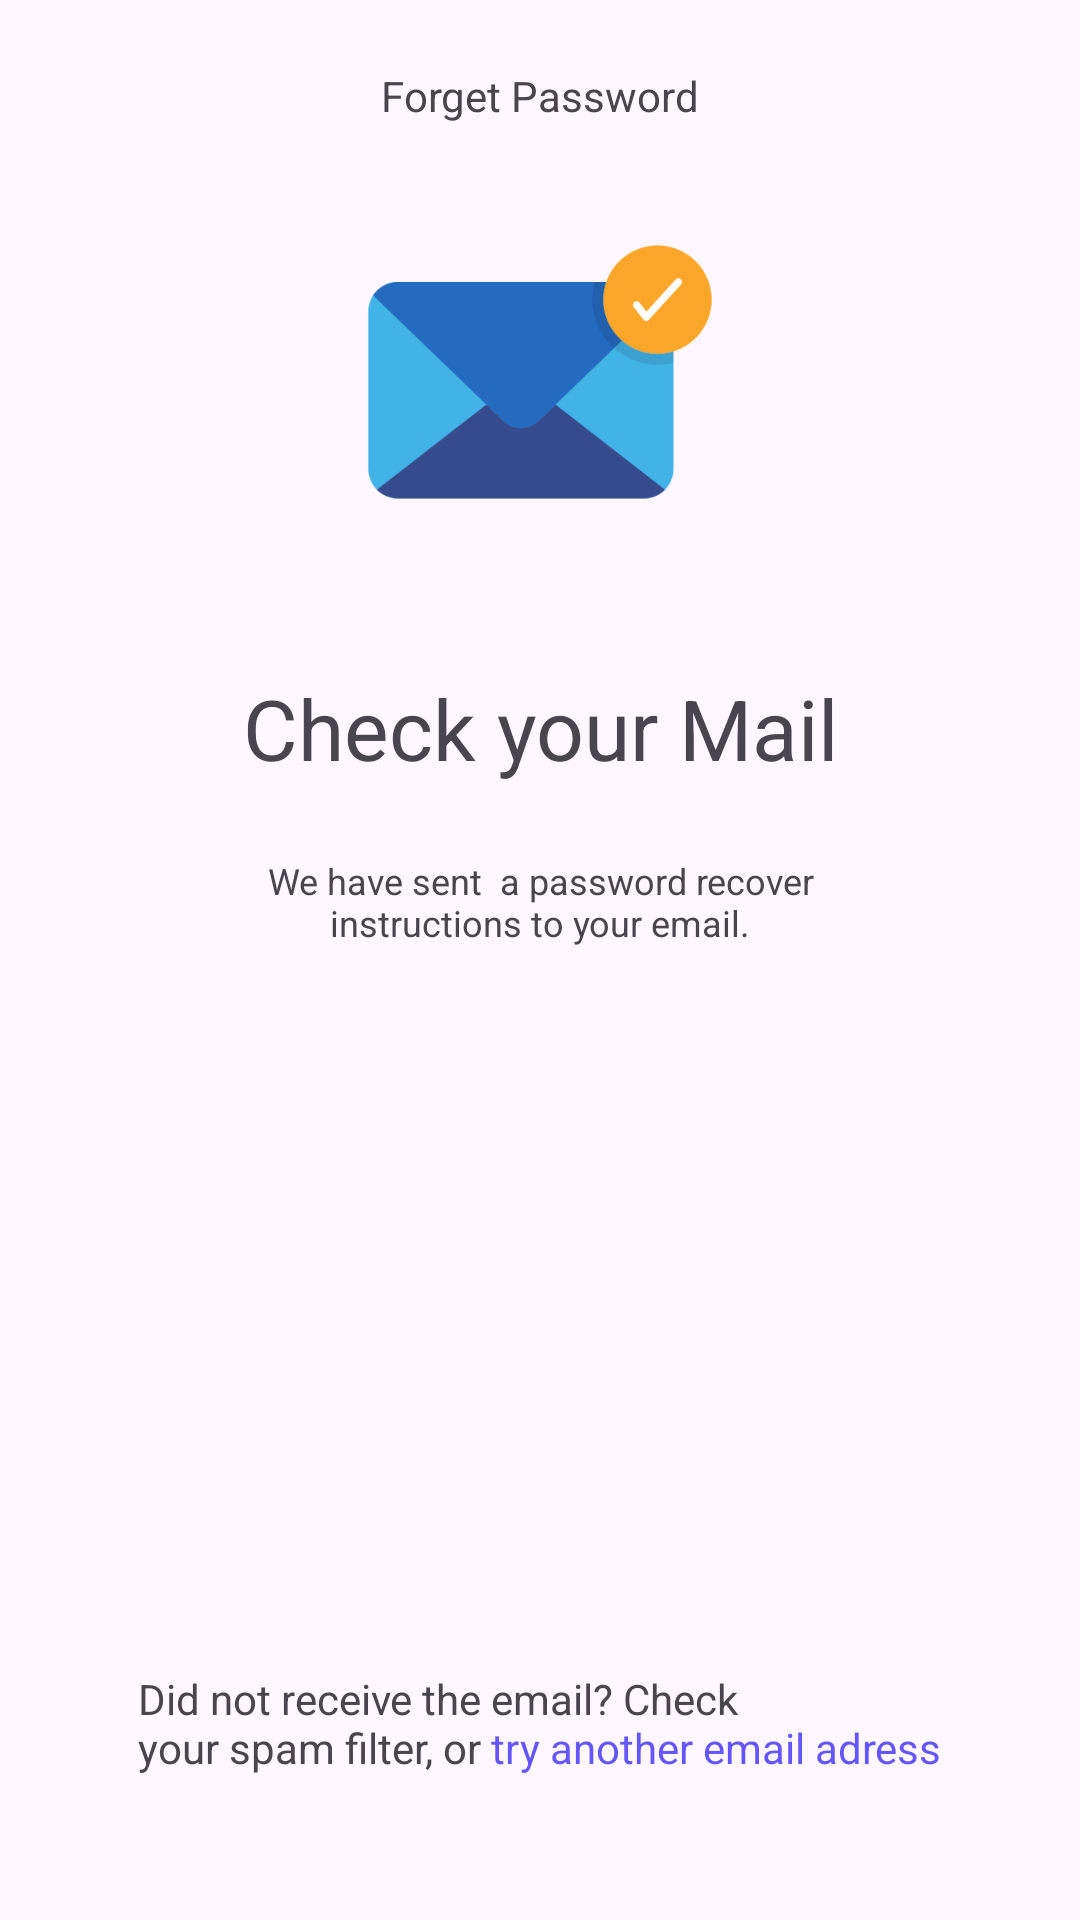

Icon bounding boxes for this 1080px x 1920px phone screenshot, format (x1=x1, y1=y1, x2=x2, y2=y2):
sentmailicon: (x1=368, y1=245, x2=712, y2=499)
